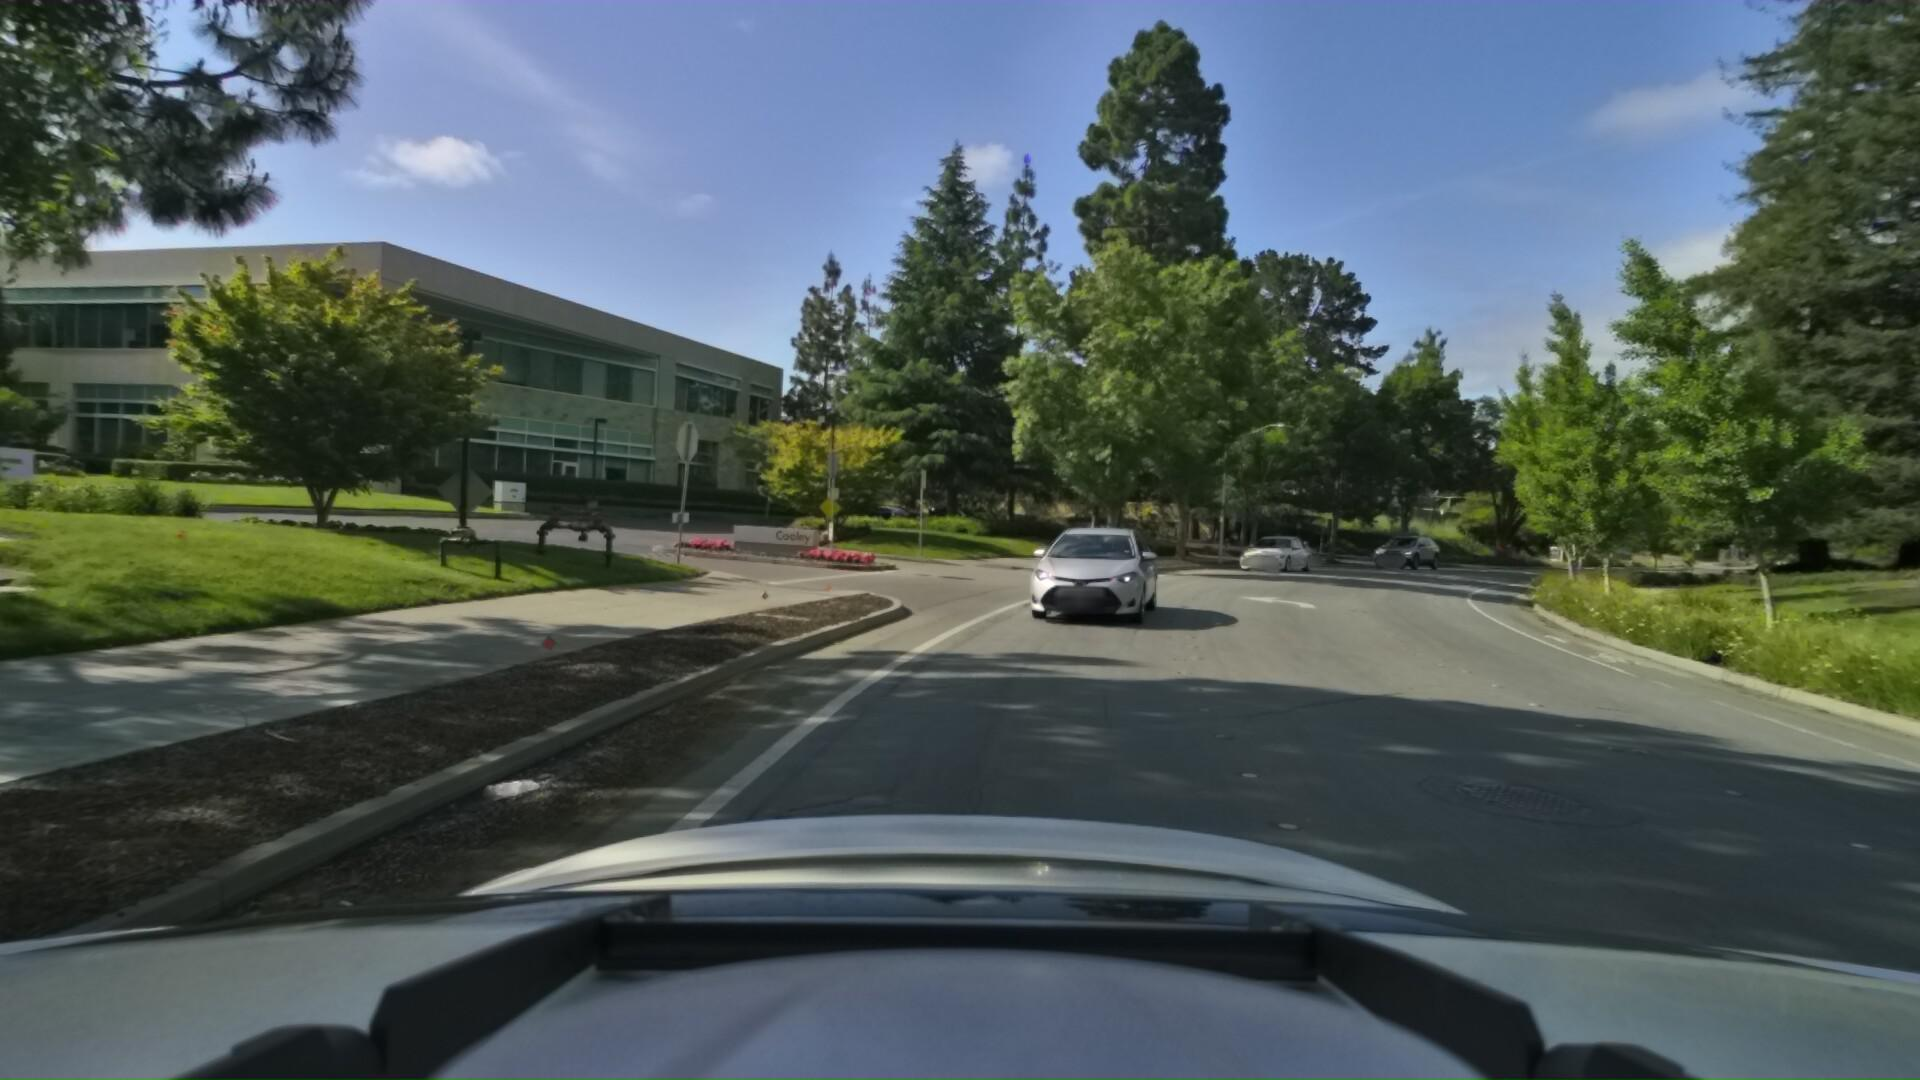car: (1029, 512, 1174, 622), (1240, 526, 1320, 571), (1374, 527, 1452, 566)
